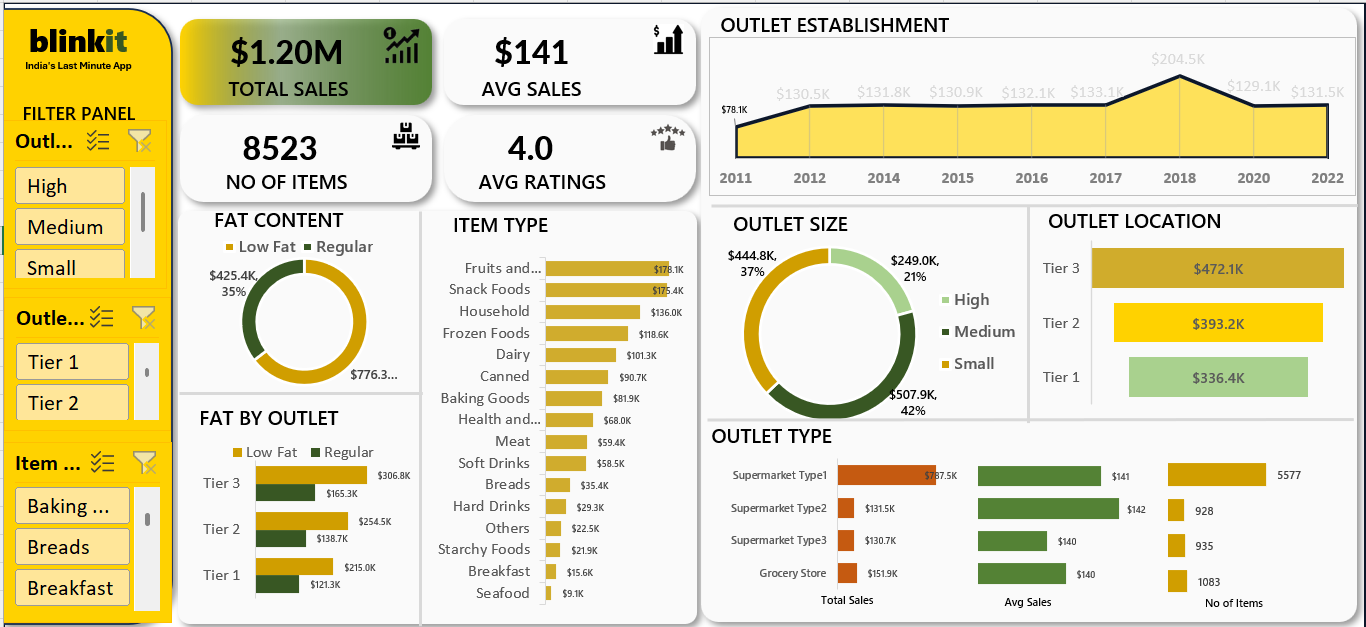

Layout of this report page (visuals, bound fields, positions):
{"tool":"powerbi","page":{"name":"Page 1","canvas":[1400,800],"ordinal":0},"visuals":[{"type":"shape","box":[0,12.4,205,788.2],"z":0},{"type":"textbox","box":[261.6,671.6,205,77.8],"z":1000},{"type":"textbox","box":[23,24.7,159.1,74.2],"z":2000},{"type":"textbox","box":[23,86.6,159.1,47.7],"z":3000},{"type":"cardVisual","fields":{"Data":["BlinkIT Grocery Data.Total Sales","BlinkIT Grocery Data.Avg Sales","BlinkIT Grocery Data.No of Items","BlinkIT Grocery Data.Avg Rating"]},"box":[205,12.4,535.5,281],"z":4000},{"type":"shape","box":[208.5,300.4,535.5,500.2],"z":5000},{"type":"donutChart","title":"FAT CONTENT","fields":{"Y":["BlinkIT Grocery Data.Avg Rating"],"Category":["BlinkIT Grocery Data.Item Fat Content"]},"box":[222.7,357,219.2,217.4],"z":6000},{"type":"slicer","fields":{"Values":["Metrics.Metrics"]},"box":[235.1,316.4,464.8,40.6],"z":7000},{"type":"cardVisual","fields":{"Data":["BlinkIT Grocery Data.Avg Rating"]},"box":[254.5,440.1,155.5,90.1],"z":8000},{"type":"clusteredBarChart","title":"FAT BY OUTLET ","fields":{"Y":["BlinkIT Grocery Data.Avg Rating"],"Category":["BlinkIT Grocery Data.Outlet Location Type"],"Series":["BlinkIT Grocery Data.Item Fat Content"]},"box":[222.7,567.3,219.2,231.5],"z":9000},{"type":"shape","box":[215.6,556.7,215.6,10.6],"z":10000},{"type":"shape","box":[441.8,372.9,8.8,427.7],"z":11000},{"type":"barChart","title":"ITEM TYPE","fields":{"Y":["BlinkIT Grocery Data.Avg Rating"],"Category":["BlinkIT Grocery Data.Item Type"]},"box":[441.8,365.8,289.8,422.4],"z":12000},{"type":"shape","box":[740.5,0,659.2,800.6],"z":13000},{"type":"lineChart","title":"OUTLET ESTABLISHMENT","fields":{"Y":["BlinkIT Grocery Data.Total Sales"],"Category":["BlinkIT Grocery Data.Outlet Establishment Year"]},"box":[754.7,37.1,629.2,235.1],"z":14000},{"type":"shape","box":[743.6,241,626.6,41.3],"z":15000},{"type":"shape","box":[1033.9,259.8,8.8,258],"z":17000},{"type":"funnel","title":"OUTLET LOCATION","fields":{"Category":["BlinkIT Grocery Data.Outlet Location Type"],"Y":["BlinkIT Grocery Data.Total Sales"]},"box":[1042.7,279.2,344.6,229.8],"z":18000},{"type":"shape","box":[754.7,498.4,629.2,40.6],"z":19000},{"type":"pivotTable","title":"OUTLET TYPE","fields":{"Rows":["BlinkIT Grocery Data.Outlet Type"],"Values":["BlinkIT Grocery Data.Total Sales","BlinkIT Grocery Data.No of Items","BlinkIT Grocery Data.Avg Sales","BlinkIT Grocery Data.Avg Rating","Avg(BlinkIT Grocery Data.Item Visibility)"]},"box":[758.2,537.3,627.4,243.9],"z":20000},{"type":"slicer","fields":{"Values":["BlinkIT Grocery Data.Outlet Location Type"]},"box":[14.1,314.6,176.7,84.8],"z":21000},{"type":"slicer","fields":{"Values":["BlinkIT Grocery Data.Outlet Size"]},"box":[14.1,401.2,176.7,84.8],"z":22000},{"type":"slicer","fields":{"Values":["BlinkIT Grocery Data.Item Type"]},"box":[14.1,489.6,176.7,84.8],"z":23000},{"type":"donutChart","title":"OUTLET SIZE","fields":{"Y":["BlinkIT Grocery Data.Total Sales"],"Category":["BlinkIT Grocery Data.Outlet Size"]},"box":[754.7,281,275.7,224.5],"z":24000},{"type":"textbox","box":[37.1,273.9,130.8,38.9],"z":24001}]}

Visuals, with their boxes on the page's 1400x800 design canvas (x1, y1, x2, y2). These are canvas units, not pixel positions in the 1366x627 screenshot, which may show the page scaled, cropped or inside an application window:
shape: pyautogui.locateOnScreen(0, 12, 205, 801)
textbox: pyautogui.locateOnScreen(262, 672, 467, 749)
textbox: pyautogui.locateOnScreen(23, 25, 182, 99)
textbox: pyautogui.locateOnScreen(23, 87, 182, 134)
cardVisual - BlinkIT Grocery Data.Total Sales x BlinkIT Grocery Data.Avg Sales: pyautogui.locateOnScreen(205, 12, 740, 293)
shape: pyautogui.locateOnScreen(208, 300, 744, 801)
"FAT CONTENT" donutChart: pyautogui.locateOnScreen(223, 357, 442, 574)
slicer - Metrics.Metrics: pyautogui.locateOnScreen(235, 316, 700, 357)
cardVisual - BlinkIT Grocery Data.Avg Rating: pyautogui.locateOnScreen(254, 440, 410, 530)
"FAT BY OUTLET " clusteredBarChart: pyautogui.locateOnScreen(223, 567, 442, 799)
shape: pyautogui.locateOnScreen(216, 557, 431, 567)
shape: pyautogui.locateOnScreen(442, 373, 451, 801)
"ITEM TYPE" barChart: pyautogui.locateOnScreen(442, 366, 732, 788)
shape: pyautogui.locateOnScreen(740, 0, 1400, 801)
"OUTLET ESTABLISHMENT" lineChart: pyautogui.locateOnScreen(755, 37, 1384, 272)
shape: pyautogui.locateOnScreen(744, 241, 1370, 282)
shape: pyautogui.locateOnScreen(1034, 260, 1043, 518)
"OUTLET LOCATION" funnel: pyautogui.locateOnScreen(1043, 279, 1387, 509)
shape: pyautogui.locateOnScreen(755, 498, 1384, 539)
"OUTLET TYPE" pivotTable: pyautogui.locateOnScreen(758, 537, 1386, 781)
slicer - BlinkIT Grocery Data.Outlet Location Type: pyautogui.locateOnScreen(14, 315, 191, 399)
slicer - BlinkIT Grocery Data.Outlet Size: pyautogui.locateOnScreen(14, 401, 191, 486)
slicer - BlinkIT Grocery Data.Item Type: pyautogui.locateOnScreen(14, 490, 191, 574)
"OUTLET SIZE" donutChart: pyautogui.locateOnScreen(755, 281, 1030, 506)
textbox: pyautogui.locateOnScreen(37, 274, 168, 313)
